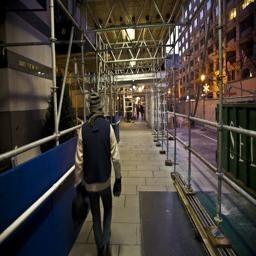no hat: (78, 89, 114, 120)
vest: (72, 118, 125, 190)
